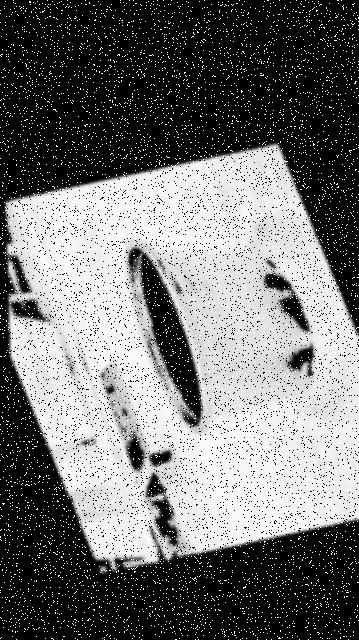pot: (122, 238, 312, 435)
